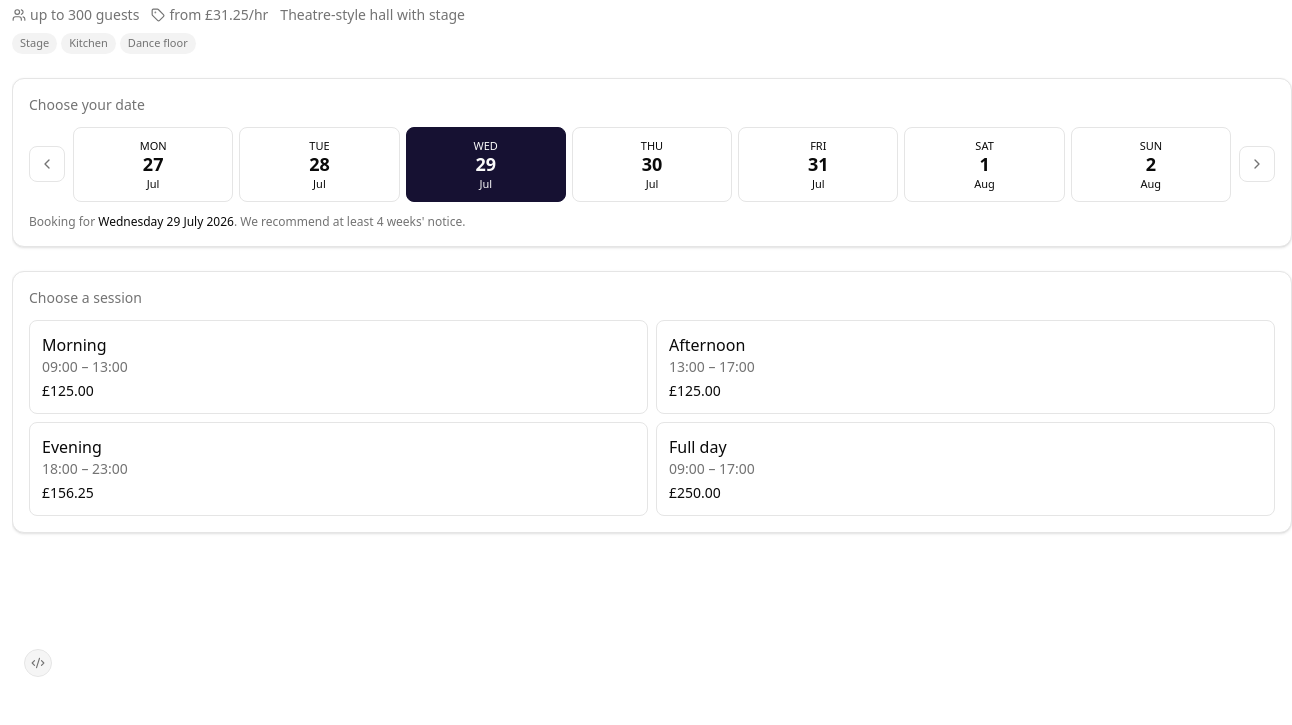
Test: VenueHireBooking › cancelling the booking form clears the selected session
This screenshot has width=1292, height=725.
What coordinates should you click on to do the following:
click the text "Morning"
I would click on:
 (74, 345)
Its box is [42, 333, 106, 357].
(page scrolled)
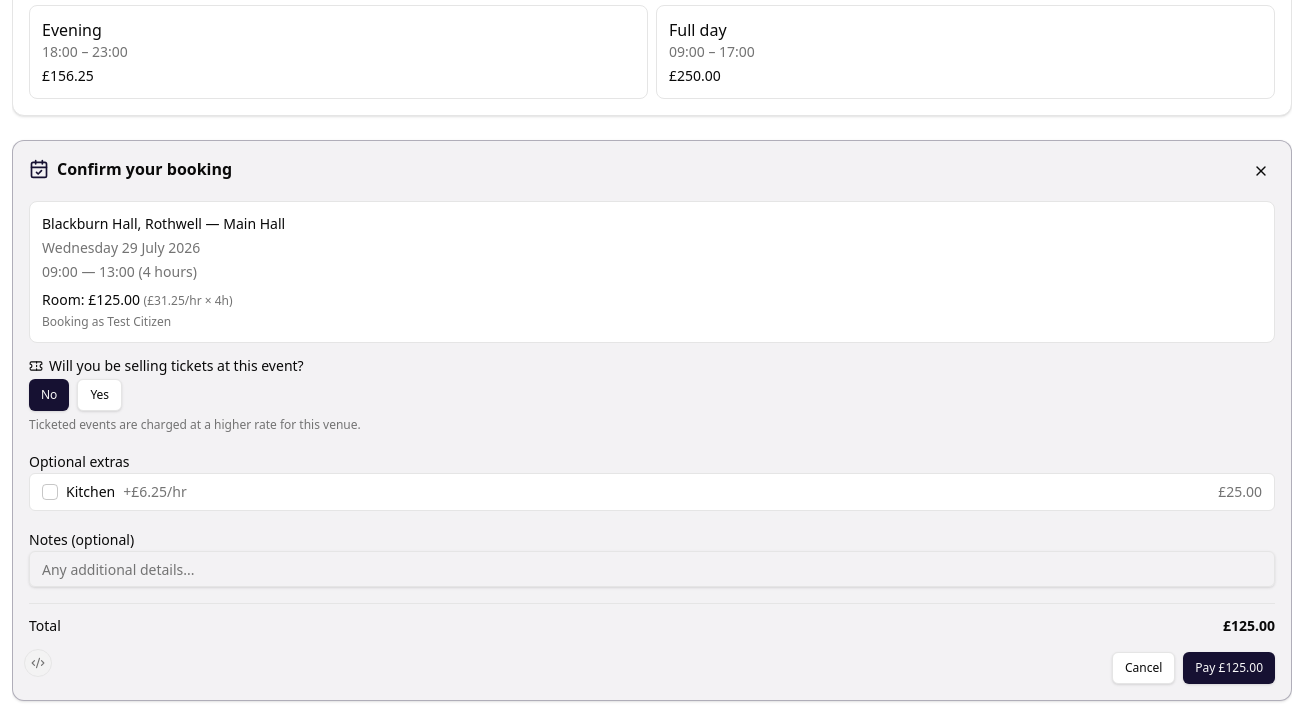
Now the heading "Confirm your booking" is shown, box [57, 157, 232, 181]
What coordinates should you click on to do the following:
click the button "Cancel"
I would click on:
 (1144, 668)
Its box is [1112, 652, 1175, 684].
(page scrolled)
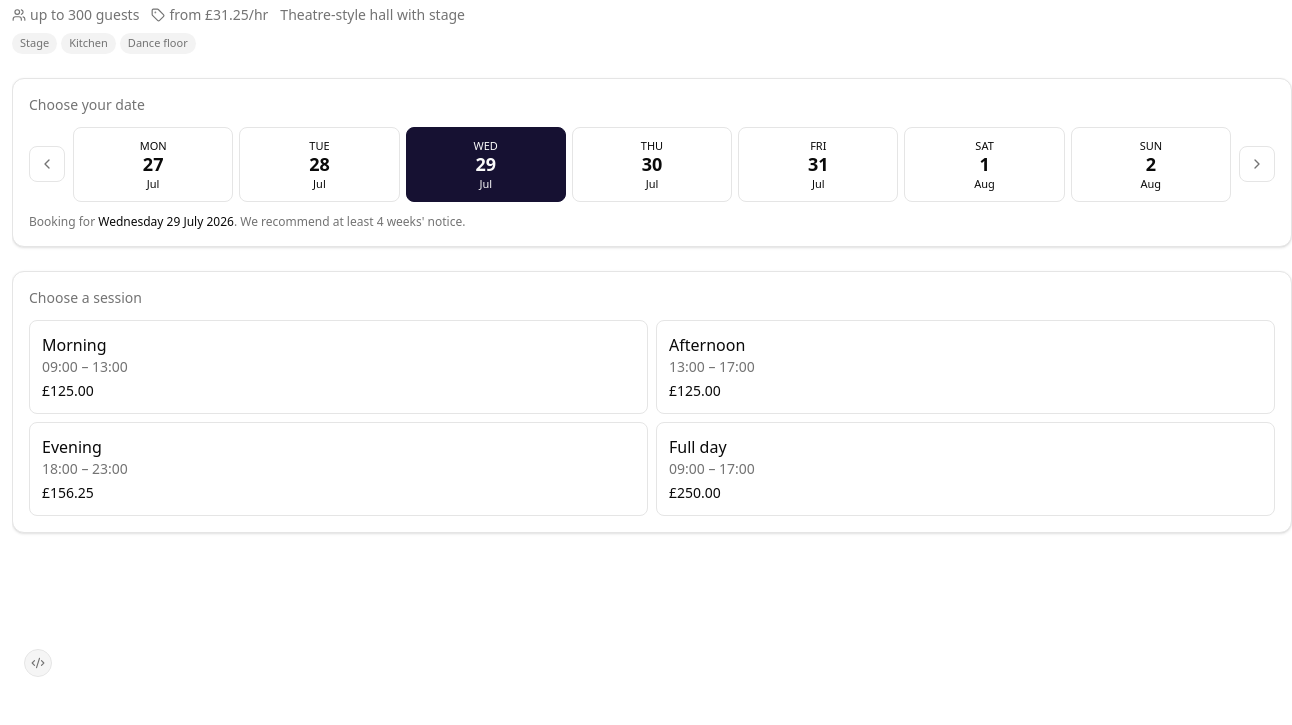
Now the heading "Confirm your booking" is gone
